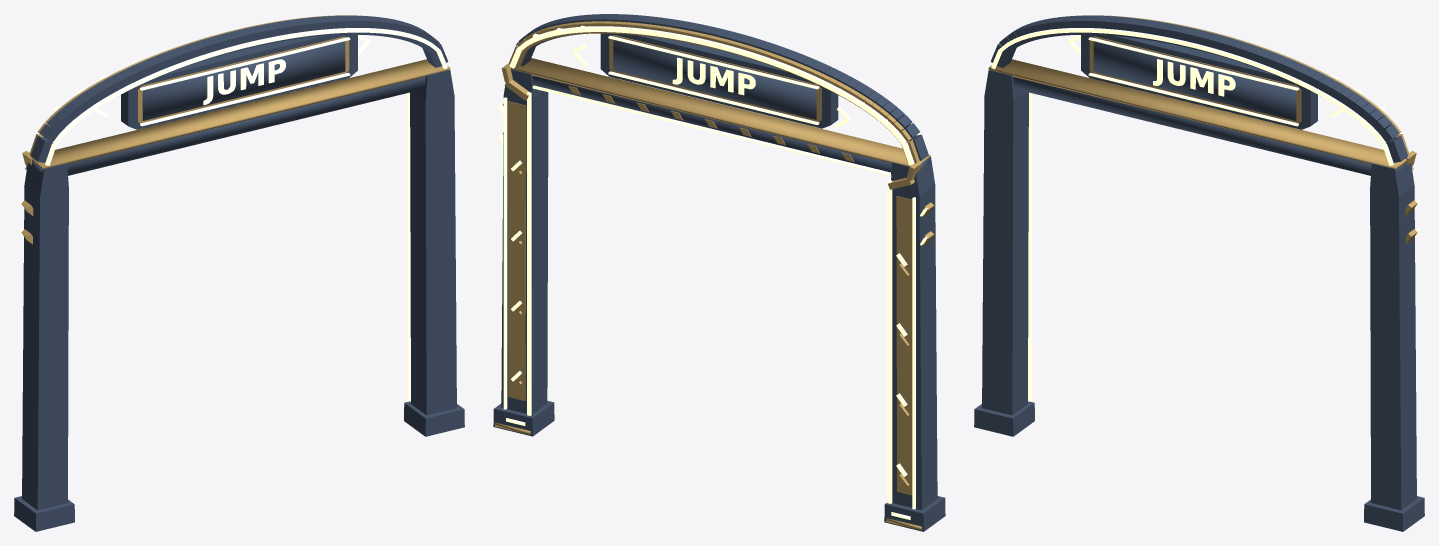
Rendered from nyanisyarud-slide-gate-takeoff.glb.
3 renders of one model, left to right at view 1: azimuth 30°, elevation 25°; view 2: azimuth 150°, elevation 25°; view 3: azimuth 330°, elevation 25°, orthographic.
Parts seen in each view (by area): view 1: frame, accent, glow; view 2: frame, accent, glow; view 3: frame, accent, glow.
Boxes of the visible parts, x1,y1,x2,y2 form: frame: [14, 15, 464, 531]; accent: [21, 15, 450, 244]; glow: [19, 14, 447, 401]; frame: [493, 14, 945, 531]; accent: [495, 21, 934, 530]; glow: [498, 25, 928, 519]; frame: [974, 15, 1424, 531]; accent: [988, 15, 1417, 244]; glow: [991, 14, 1419, 401].
Size of the model in its own units: 12.34 by 12.04 by 1.12.
